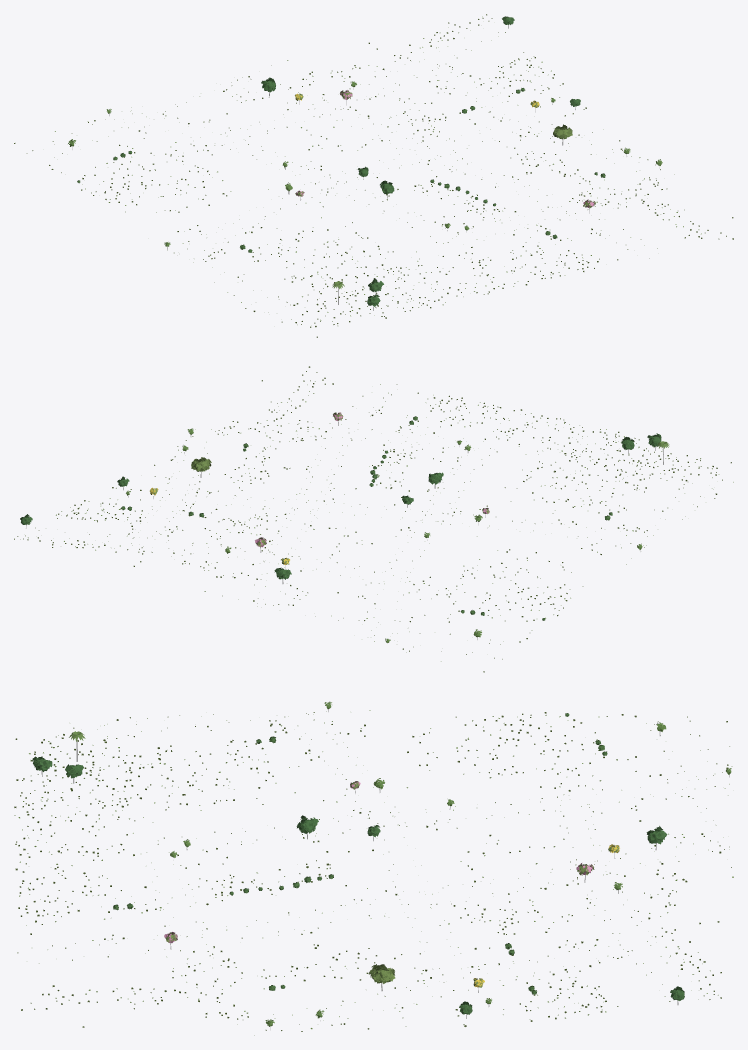
Rendered from Vegetation.fbx.
3 renders of one model, top to bottom at view 1: azimuth 30°, elevation 25°; view 2: azimuth 150°, elevation 25°; view 3: azimuth 270°, elevation 25°, orthographic. The views are drawn at different scales.
Parts seen in each view (by area): view 1: EXPORT_OT_Vegetation_SA_M01_02_S02_01; view 2: EXPORT_OT_Vegetation_SA_M01_02_S02_01; view 3: EXPORT_OT_Vegetation_SA_M01_02_S02_01.
Part boxes in pixels (<box>): EXPORT_OT_Vegetation_SA_M01_02_S02_01: <box>14,14,733,337</box>; EXPORT_OT_Vegetation_SA_M01_02_S02_01: <box>14,366,733,672</box>; EXPORT_OT_Vegetation_SA_M01_02_S02_01: <box>14,701,733,1035</box>.
Size of the model in its own units: 252 by 19.67 by 250.
